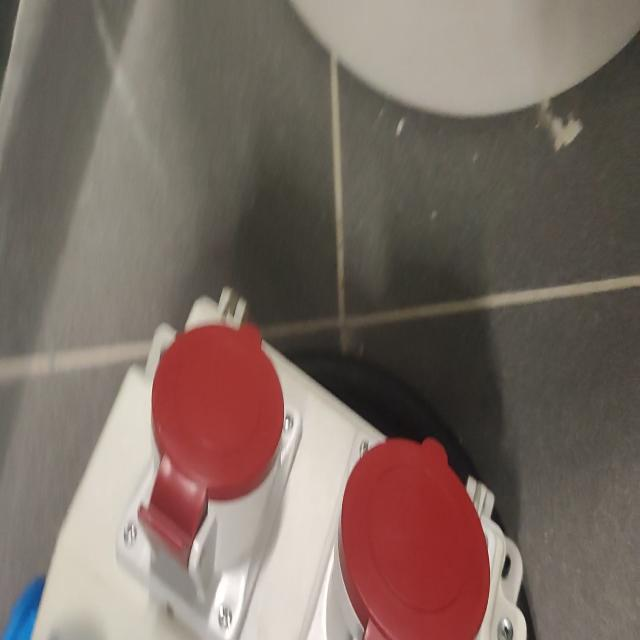400v socket: (115, 324, 301, 640), (297, 428, 486, 638)
